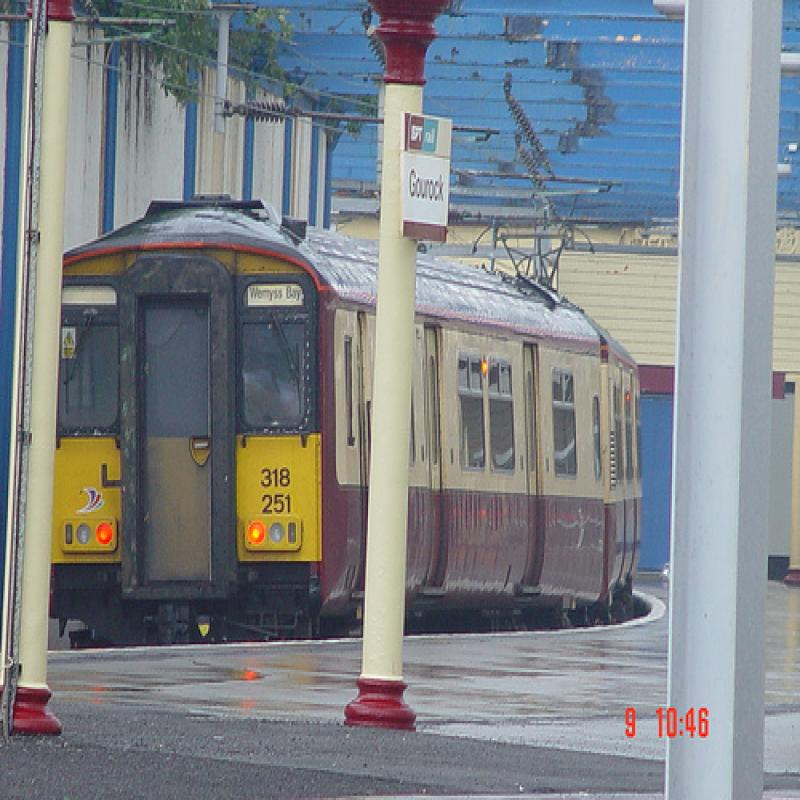train: (51, 193, 644, 645)
